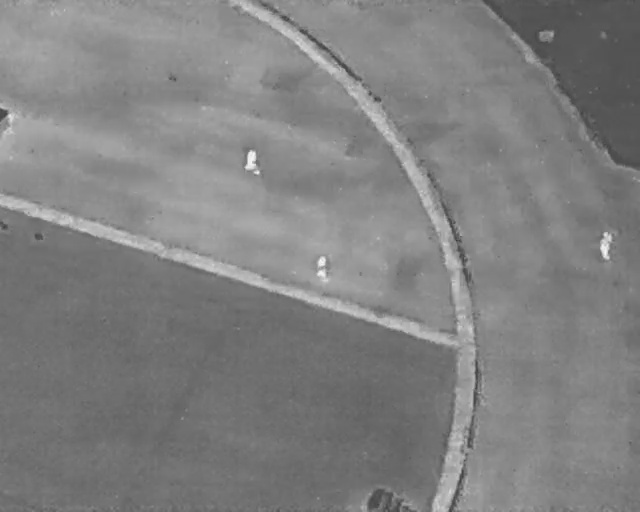Person: (242, 147, 261, 176), (599, 229, 613, 261), (315, 254, 329, 281)
